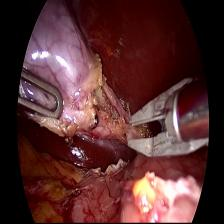Clipper: (126, 74, 199, 168)
Grasper: (16, 68, 64, 123)
